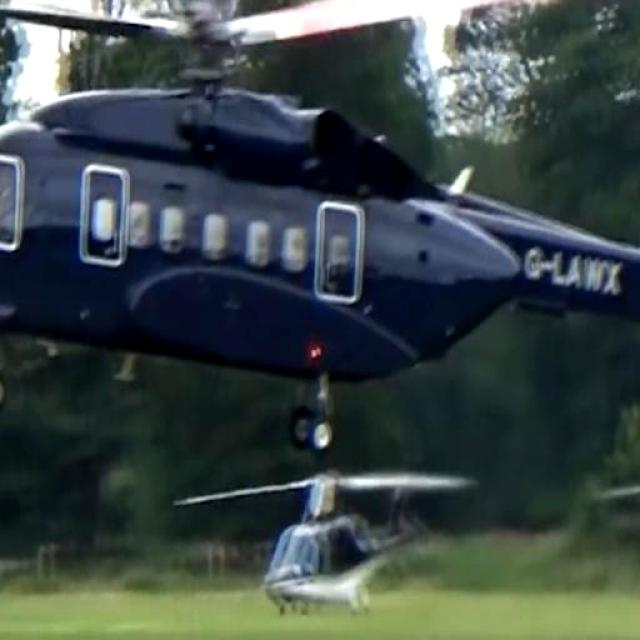drone: (0, 0, 640, 451), (178, 466, 471, 621)
